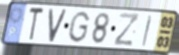8: (91, 12, 111, 45)
G: (66, 10, 91, 44)
I: (140, 14, 154, 49)
T: (27, 6, 45, 43)
V: (48, 8, 69, 44)
Z: (112, 12, 141, 47)
